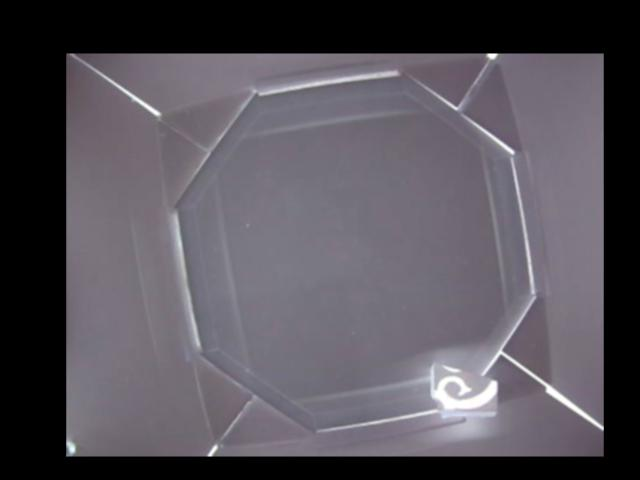China: (431, 360, 500, 417)
